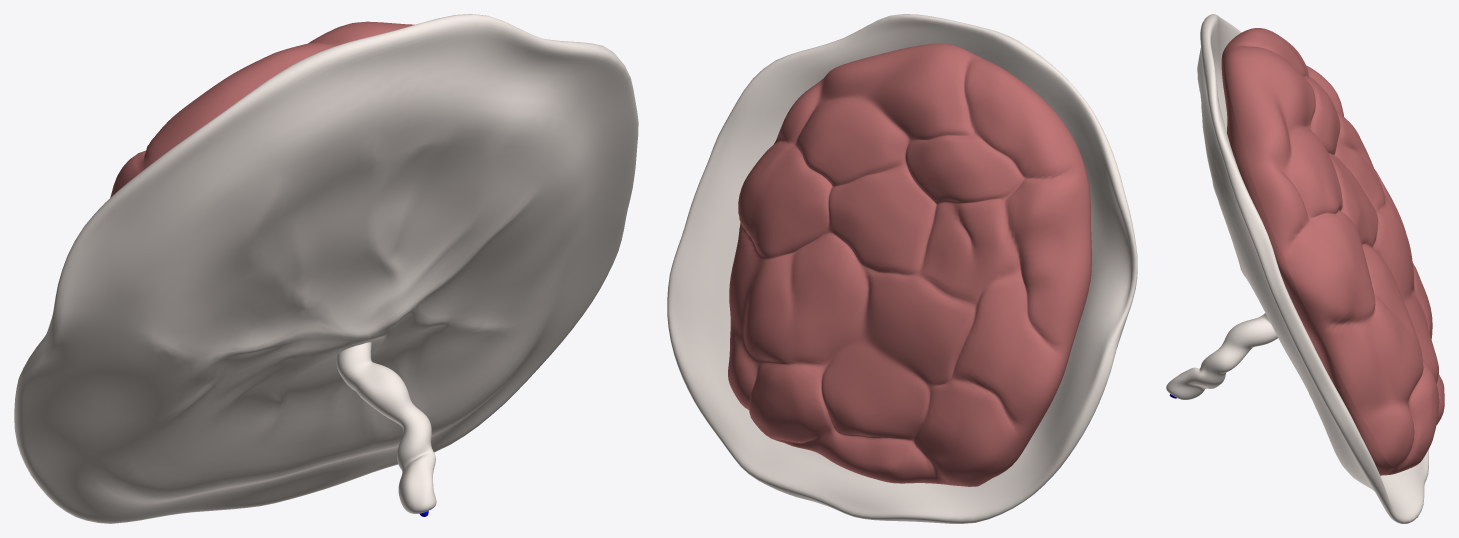
File: VH_F_Placenta.fbx
The picture shows the model from 3 angles, left to right: view 1: azimuth 30°, elevation 25°; view 2: azimuth 150°, elevation 25°; view 3: azimuth 270°, elevation 25°; orthographic projection. The views are drawn at different scales.
Visible parts, largest first — view 1: VH_F_amnion, VH_F_basal_plate, VH_F_umbilical_cord; view 2: VH_F_basal_plate, VH_F_amnion; view 3: VH_F_basal_plate, VH_F_amnion, VH_F_chorionic_plate, VH_F_umbilical_cord.
Boxes of the visible parts, x1,y1,x2,y2 form: VH_F_amnion: (14, 14, 638, 523); VH_F_basal_plate: (110, 21, 414, 197); VH_F_umbilical_cord: (336, 342, 436, 513); VH_F_basal_plate: (728, 43, 1090, 486); VH_F_amnion: (667, 14, 1137, 523); VH_F_basal_plate: (1224, 28, 1444, 471); VH_F_amnion: (1197, 14, 1428, 523); VH_F_chorionic_plate: (1221, 46, 1400, 475); VH_F_umbilical_cord: (1166, 313, 1277, 399).
Bounding box in the file's own units: 25.09 × 23.05 × 13.38.
